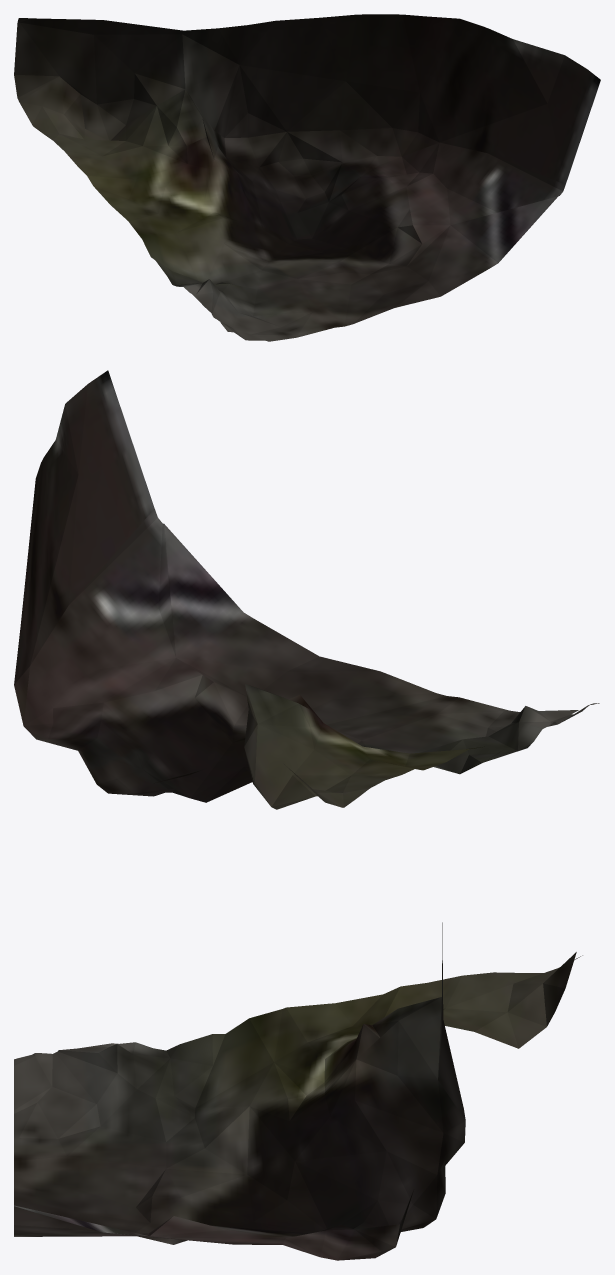
3 renders of one model, top to bottom at view 1: azimuth 30°, elevation 25°; view 2: azimuth 150°, elevation 25°; view 3: azimuth 270°, elevation 25°, orthographic. The views are drawn at different scales.
Bounding box in the file's own units: 1.3 × 0.6613 × 1.29.
1 material, 1 textured.
